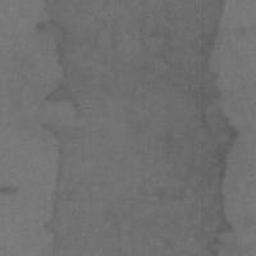Water spot: (28, 0, 237, 256), (0, 186, 19, 196)
